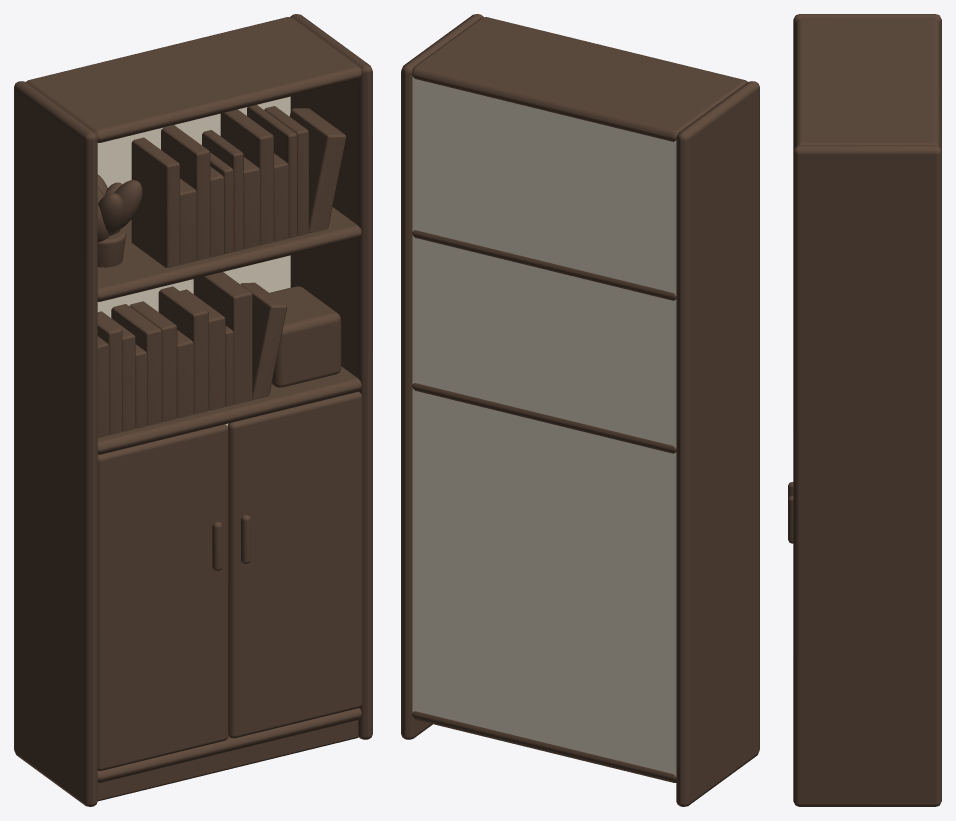
File: cabinet.glb
The picture shows the model from 3 angles, left to right: view 1: azimuth 30°, elevation 25°; view 2: azimuth 150°, elevation 25°; view 3: azimuth 270°, elevation 25°; orthographic projection. The views are drawn at different scales.
Parts seen in each view (by area): view 1: cabinet; view 2: cabinet; view 3: cabinet.
Part boxes in pixels (x1,y1,x2,y2): cabinet: (14, 14, 372, 806); cabinet: (401, 14, 759, 806); cabinet: (788, 14, 941, 806).
Bounding box in the file's own units: 0.8087 × 1.81 × 0.3817.
